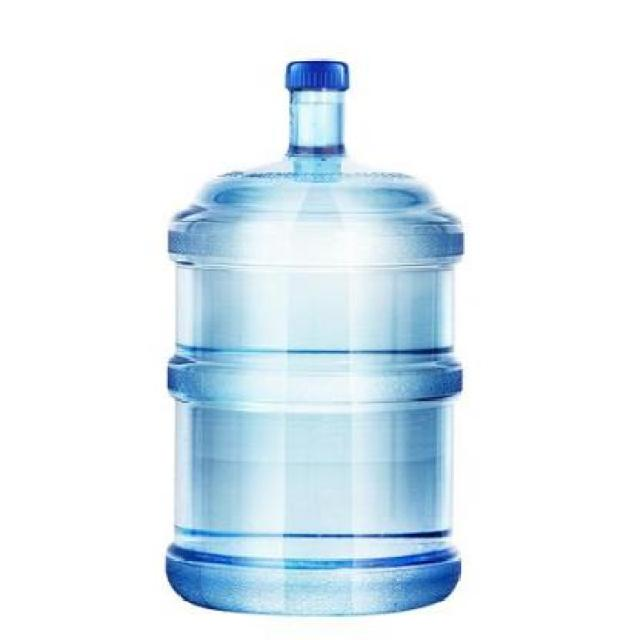coolerbottle: (162, 52, 468, 621)
